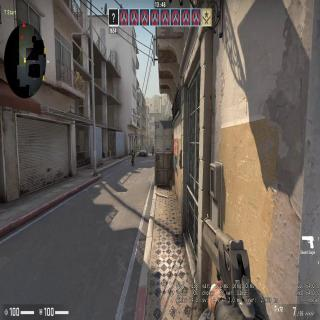CT-Body: (131, 148, 135, 165), (152, 145, 154, 155)
CT-Head: (132, 148, 134, 152), (152, 146, 154, 148)
